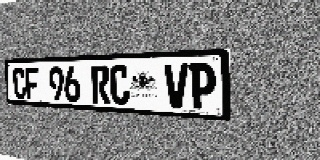6: (64, 66, 81, 102)
9: (49, 67, 65, 101)
C: (110, 65, 130, 105), (12, 68, 26, 99)
F: (25, 67, 39, 100)
P: (189, 63, 216, 110)
R: (91, 65, 110, 104)
V: (164, 63, 189, 109)
